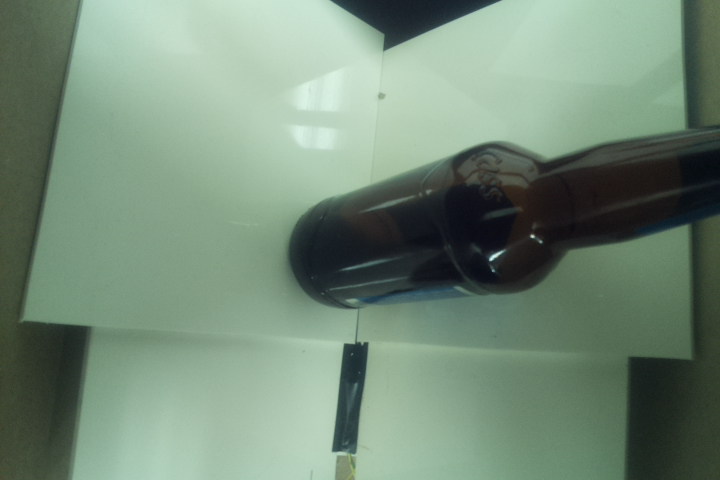makju: (286, 122, 720, 310)
